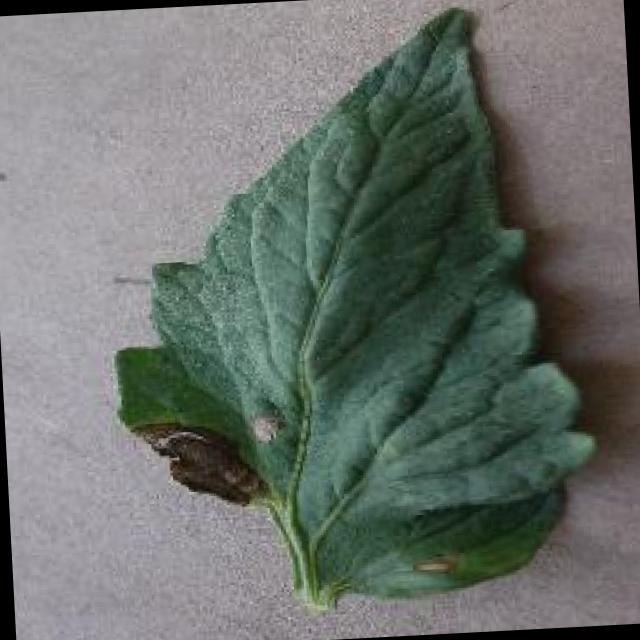Tomato_Early_Blight: (88, 349, 464, 617)
